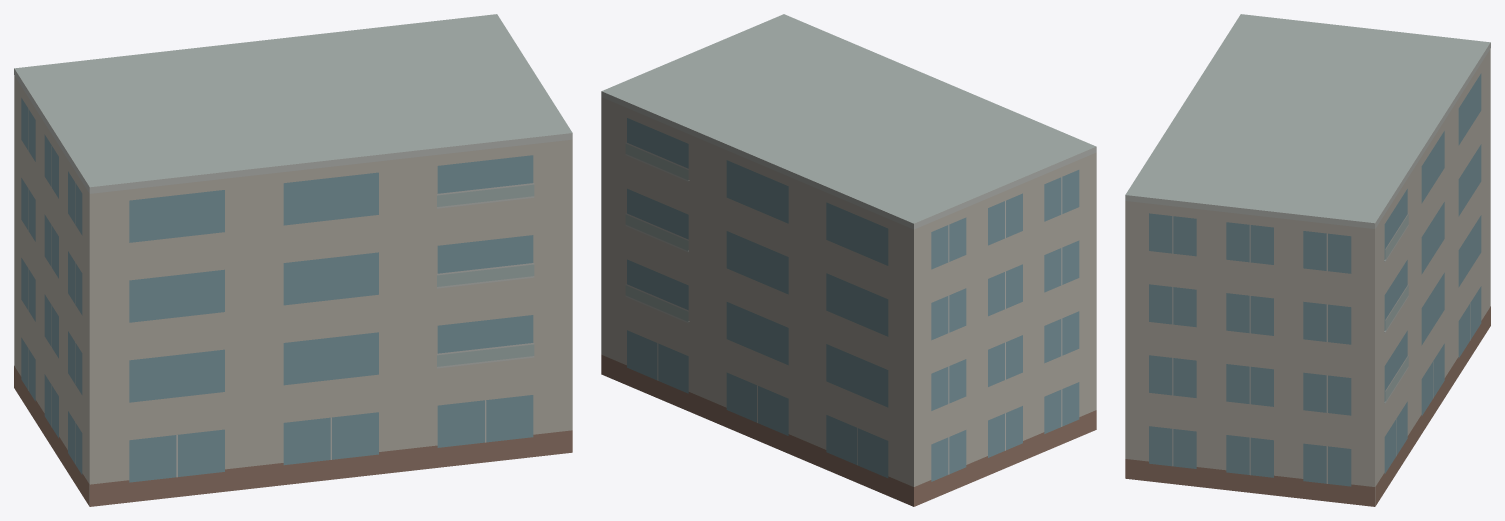
Rendered from survey-upis-32601719.glb.
3 views of the same model, side by side, from view 1: azimuth 30°, elevation 25°; view 2: azimuth 150°, elevation 25°; view 3: azimuth 270°, elevation 25° (orthographic). The views are drawn at different scales.
Parts seen in each view (by area): view 1: survey-upis-32601719.tmp; view 2: survey-upis-32601719.tmp; view 3: survey-upis-32601719.tmp.
Part boxes in pixels (left/top/right/bottom): survey-upis-32601719.tmp: left=14, top=14, right=572, bottom=506; survey-upis-32601719.tmp: left=601, top=14, right=1096, bottom=506; survey-upis-32601719.tmp: left=1125, top=14, right=1490, bottom=506.
Bounding box in the file's own units: 18.63 × 11.77 × 13.76.
